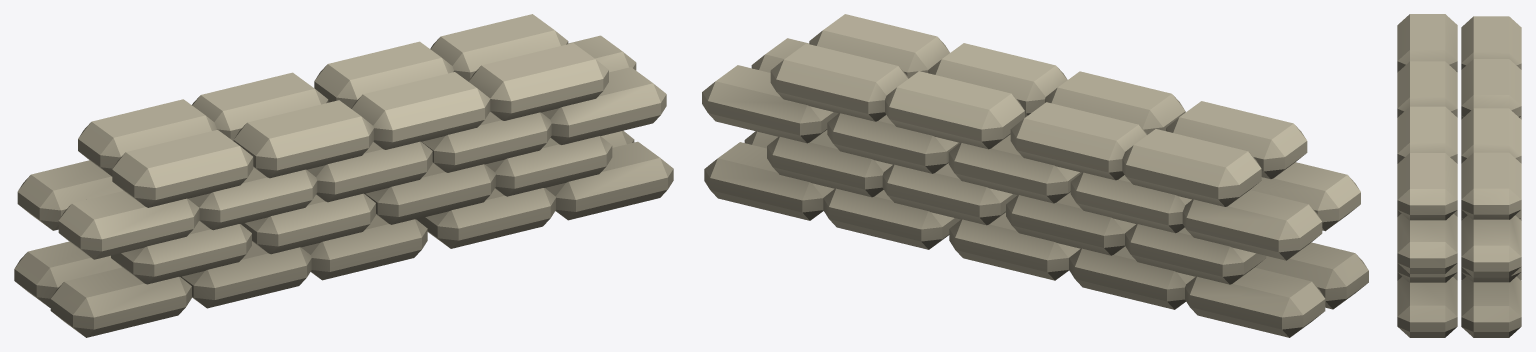
File: mil_sandbags.glb
The picture shows the model from 3 angles, left to right: view 1: azimuth 30°, elevation 25°; view 2: azimuth 150°, elevation 25°; view 3: azimuth 270°, elevation 25°; orthographic projection. The views are drawn at different scales.
Parts seen in each view (by area): view 1: mil_sandbags; view 2: mil_sandbags; view 3: mil_sandbags.
Boxes of the visible parts, box(x1,y1,x2,y2) form: mil_sandbags: box(14, 14, 673, 337); mil_sandbags: box(702, 14, 1368, 337); mil_sandbags: box(1397, 14, 1521, 337).
Bounding box in the file's own units: 3.15 × 0.77 × 0.7.
